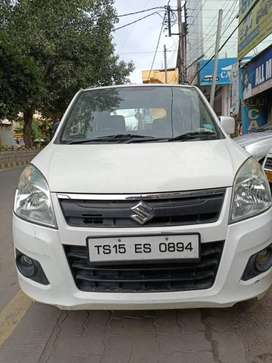TS15ES0894: (88, 233, 198, 261)
